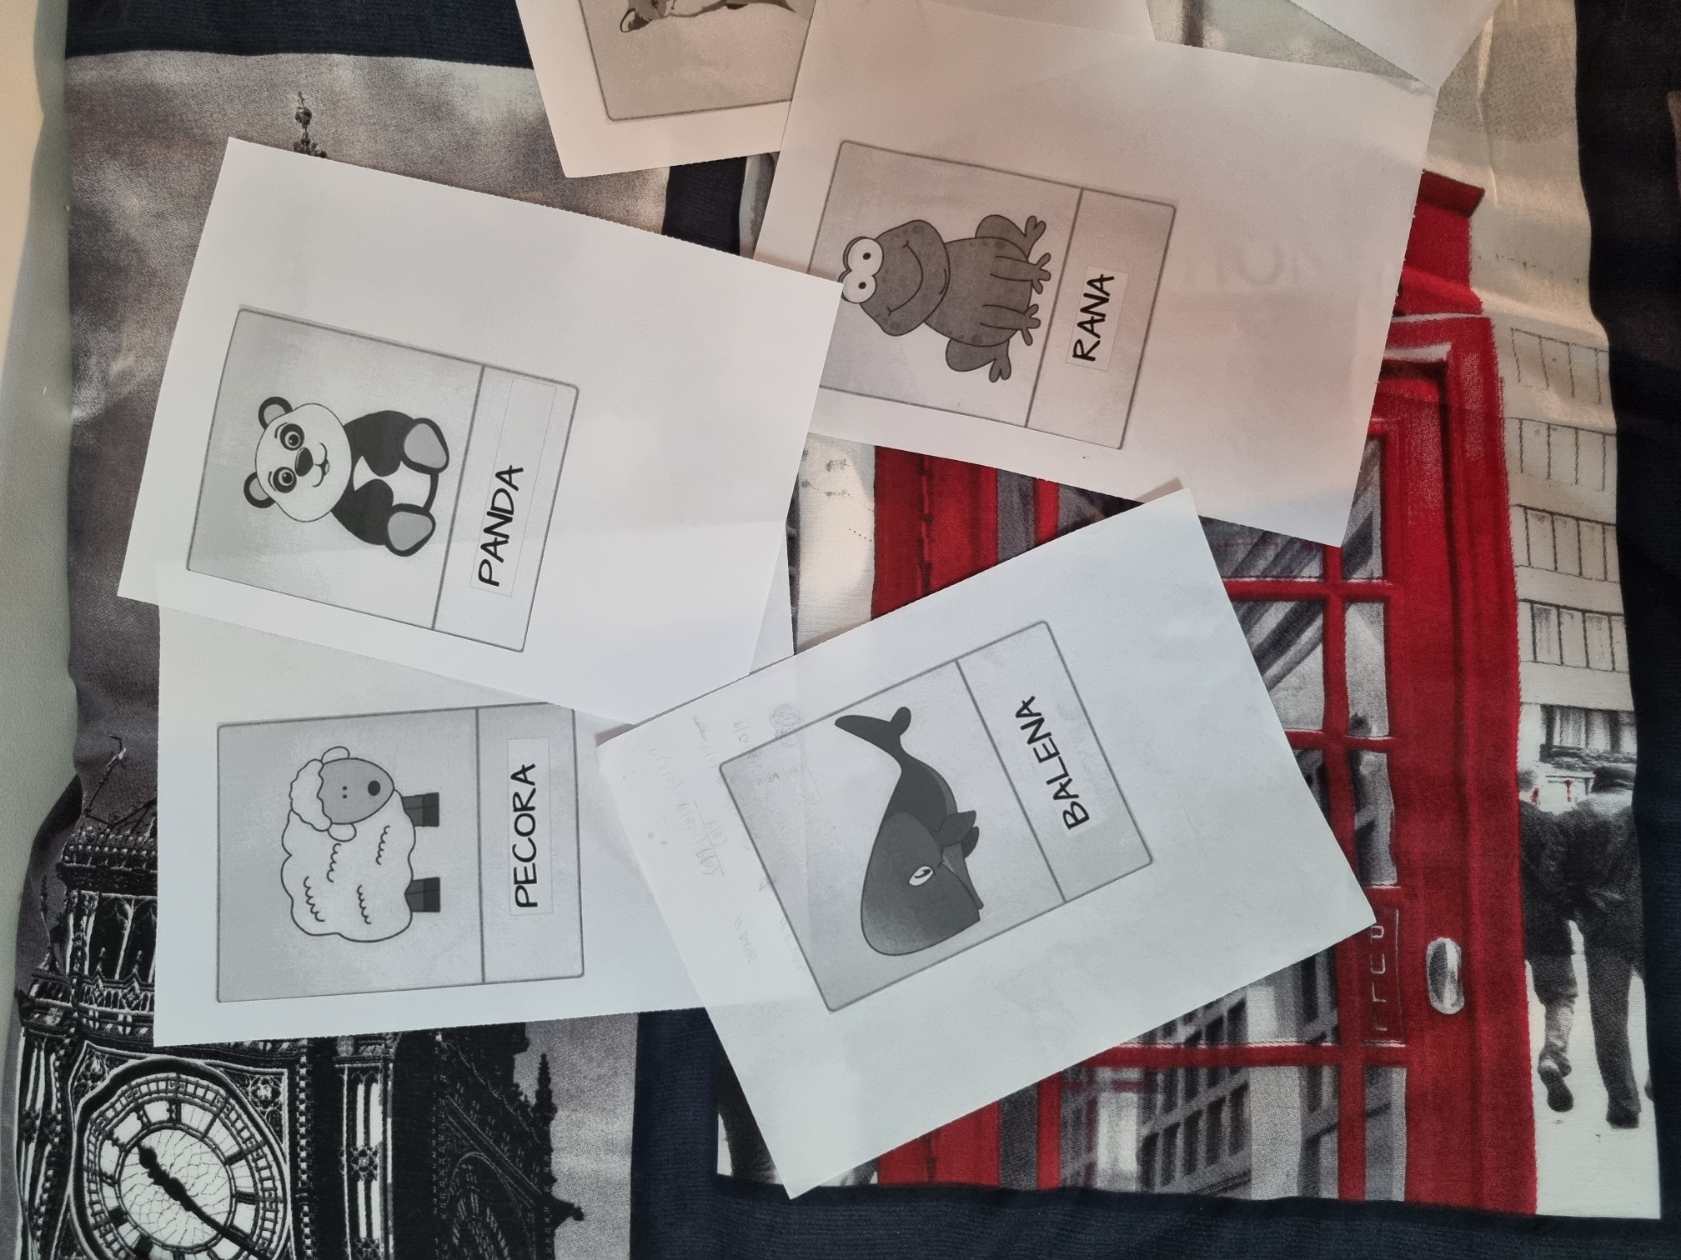balena: (756, 693, 1136, 977)
panda: (219, 339, 565, 630)
pecora: (230, 730, 585, 968)
rana: (830, 152, 1157, 436)
